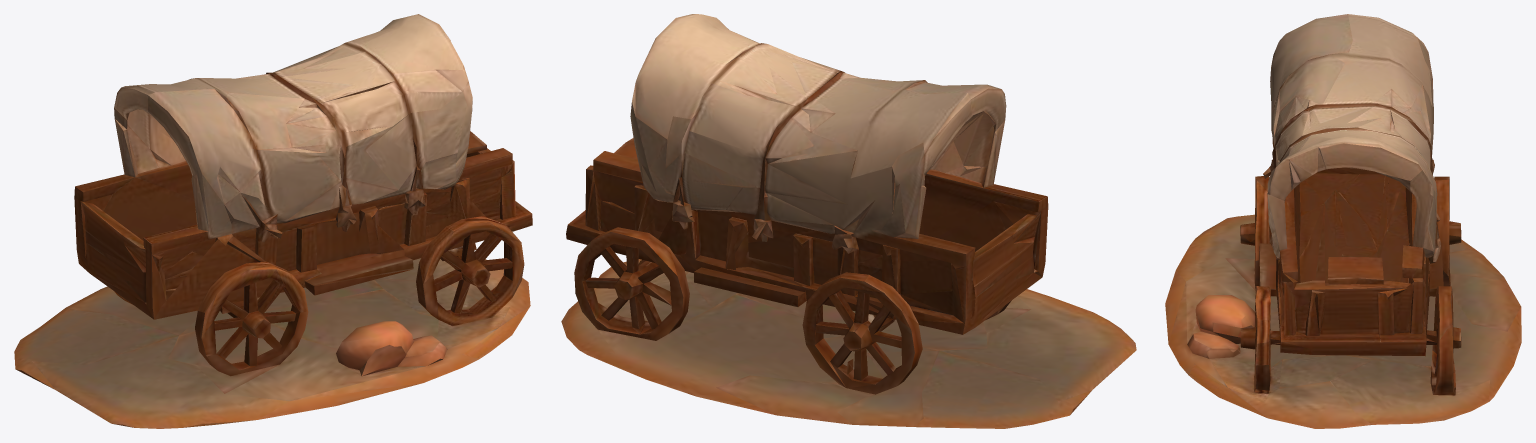
The model's file is west_wagon.glb.
3 views of the same model, side by side, from view 1: azimuth 30°, elevation 25°; view 2: azimuth 150°, elevation 25°; view 3: azimuth 270°, elevation 25° (orthographic). The views are drawn at different scales.
Parts seen in each view (by area): view 1: mesh_node; view 2: mesh_node; view 3: mesh_node.
Boxes of the visible parts, x1,y1,x2,y2 form: mesh_node: (14,14,532,428); mesh_node: (561,14,1136,428); mesh_node: (1165,14,1521,428).
Size of the model in its own units: 1.9 by 1.01 by 1.3.
1 material, 1 textured.
